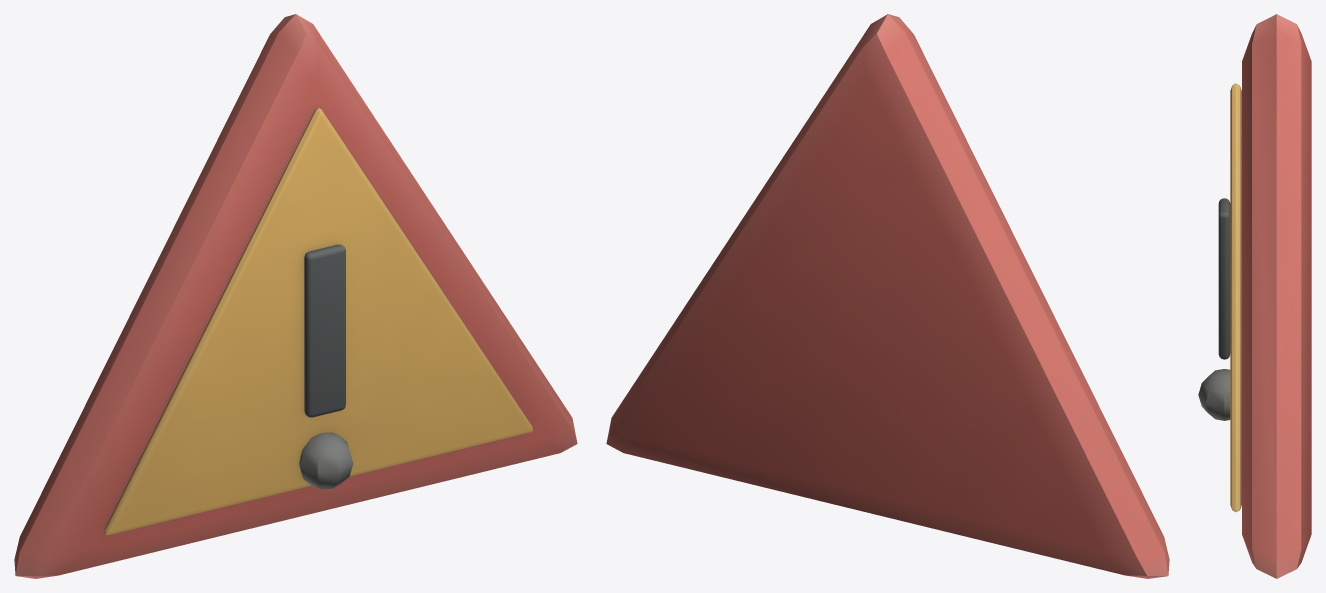
File: WarningBadge.fbx
The picture shows the model from 3 angles, left to right: view 1: azimuth 30°, elevation 25°; view 2: azimuth 150°, elevation 25°; view 3: azimuth 270°, elevation 25°; orthographic projection. The views are drawn at different scales.
Visible parts, largest first — view 1: WarningBadge; view 2: WarningBadge; view 3: WarningBadge.
Part boxes in pixels (x1=…): WarningBadge: x1=14, y1=14, x2=577, y2=578; WarningBadge: x1=606, y1=14, x2=1169, y2=578; WarningBadge: x1=1198, y1=14, x2=1311, y2=578.
Size of the model in its own units: 99.8 by 85.27 by 19.5.
